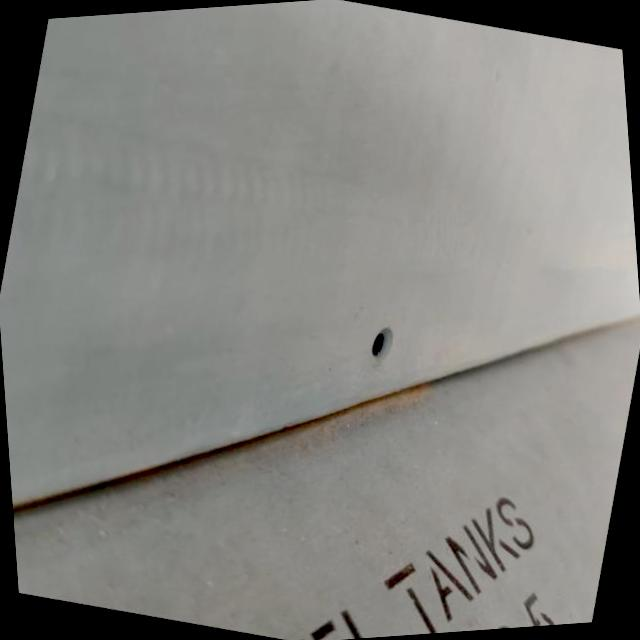Missing Fastener: (368, 323, 402, 368)
